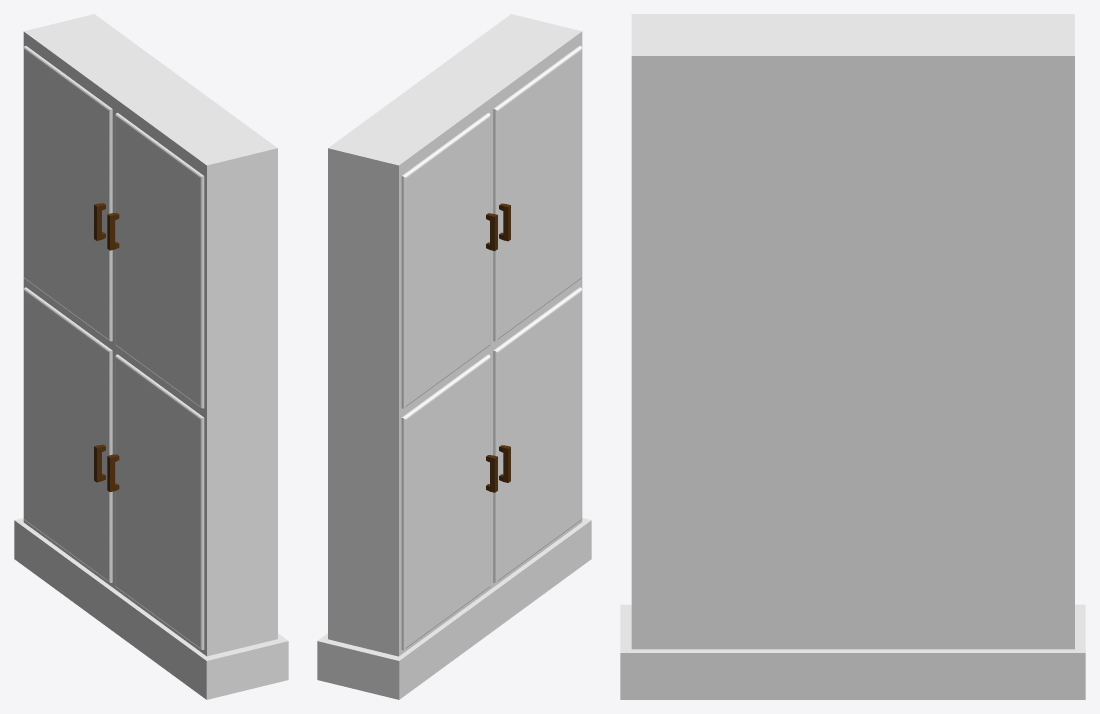
The model's file is Wardrobe_3.fbx.
3 views of the same model, side by side, from view 1: azimuth 30°, elevation 25°; view 2: azimuth 150°, elevation 25°; view 3: azimuth 270°, elevation 25° (orthographic). The views are drawn at different scales.
Visible parts, largest first — view 1: Wardrobe_3, Wardrobe_3 Door_1, Wardrobe_3 Door_4, Wardrobe_3 Door_2, Wardrobe_3 Door_3; view 2: Wardrobe_3, Wardrobe_3 Door_2, Wardrobe_3 Door_3, Wardrobe_3 Door_1, Wardrobe_3 Door_4; view 3: Wardrobe_3.
Boxes of the visible parts, x1,y1,x2,y2 form: Wardrobe_3: (14, 14, 288, 699); Wardrobe_3 Door_1: (107, 354, 204, 649); Wardrobe_3 Door_4: (107, 113, 204, 408); Wardrobe_3 Door_2: (23, 287, 112, 582); Wardrobe_3 Door_3: (23, 46, 112, 341); Wardrobe_3: (317, 14, 591, 699); Wardrobe_3 Door_2: (401, 354, 497, 650); Wardrobe_3 Door_3: (401, 113, 497, 408); Wardrobe_3 Door_1: (493, 287, 581, 582); Wardrobe_3 Door_4: (493, 45, 581, 341); Wardrobe_3: (620, 14, 1085, 699).
Bounding box in the file's own units: 0.4147 × 2.33 × 1.54.
